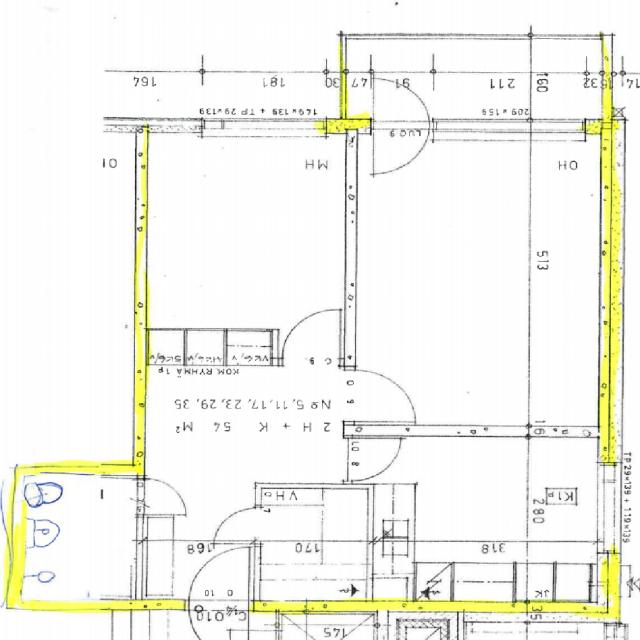door: (344, 369, 417, 422), (188, 551, 248, 612), (373, 71, 429, 134), (373, 120, 429, 182), (282, 310, 340, 366), (344, 438, 402, 481), (136, 478, 187, 515), (214, 507, 260, 540)
